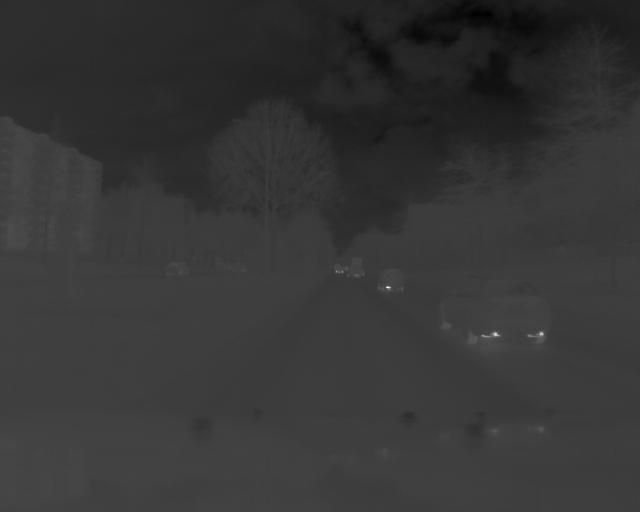car: (442, 273, 555, 348), (375, 267, 407, 295), (162, 258, 193, 277), (346, 262, 367, 280)
